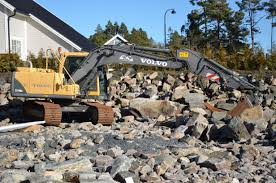excavator: (7, 38, 259, 128)
